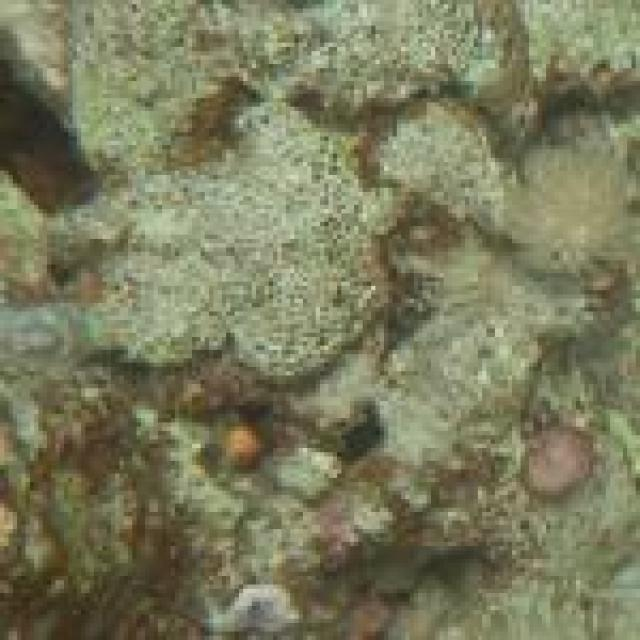Bleached Coral: (0, 0, 518, 371)
